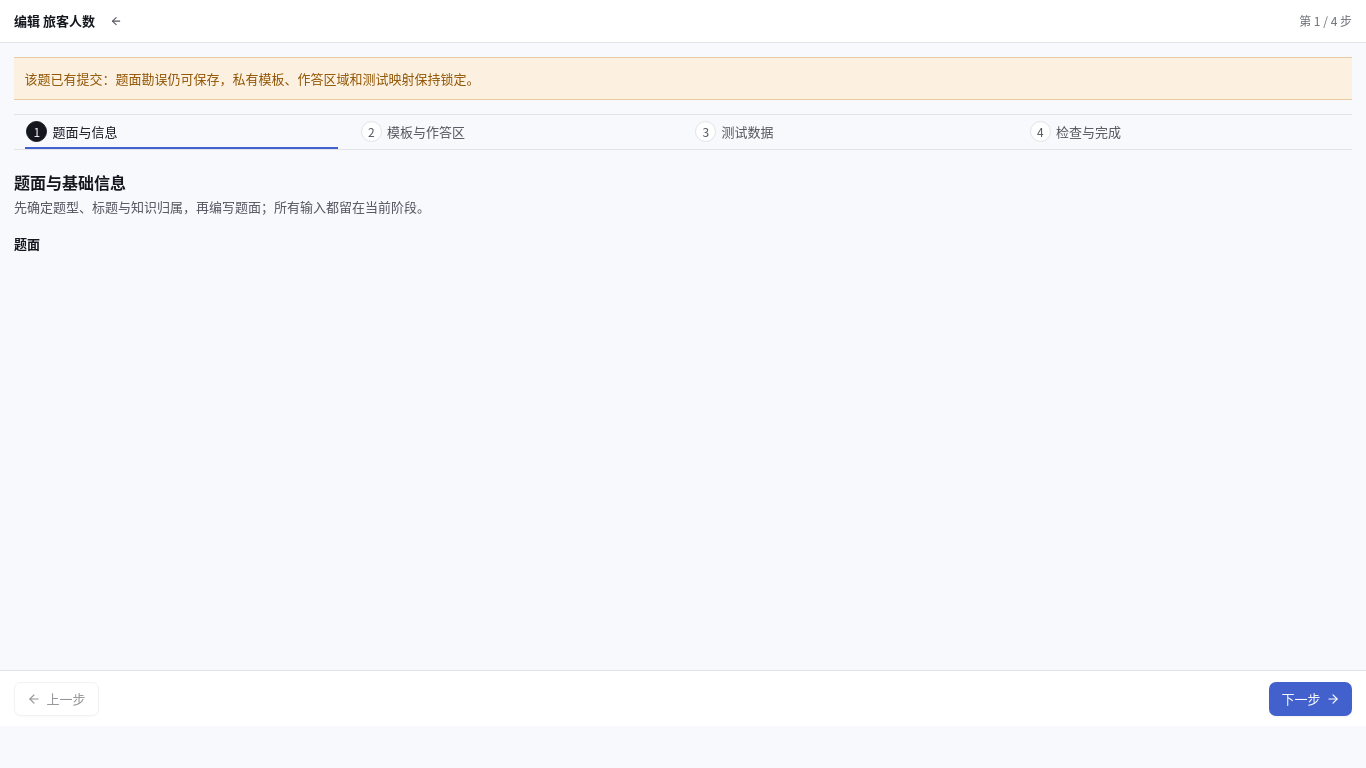
structured code case hints › keeps hint controls disabled with the existing structure lock
Click the button "3 测试数据": [748, 131] box [683, 114, 1018, 148]
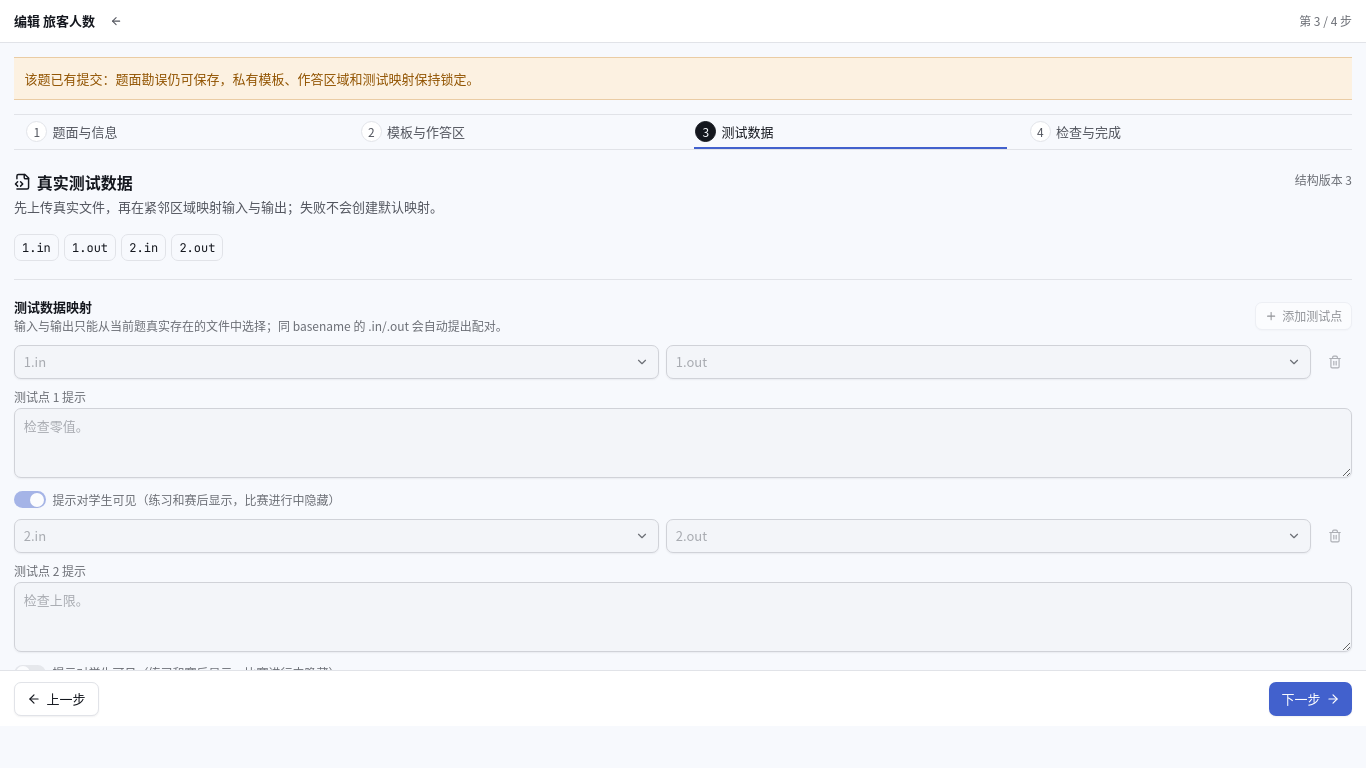
Check: the text box labelled "测试点 1 提示" is disabled, box [14, 408, 1352, 478]
Check: the switch named "测试点 1 提示对学生可见" is disabled, box [14, 491, 340, 508]
